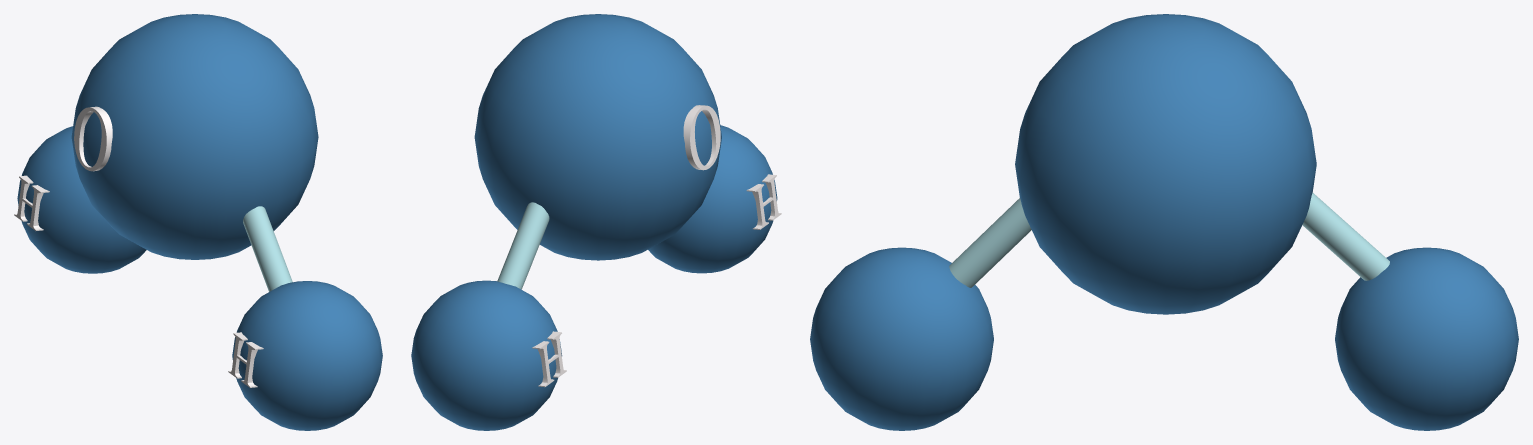
3 views of the same model, side by side, from view 1: azimuth 30°, elevation 25°; view 2: azimuth 150°, elevation 25°; view 3: azimuth 270°, elevation 25° (orthographic). The views are drawn at different scales.
Visible parts, largest first — view 1: Molécula de Agua, H (×2), O#2; view 2: Molécula de Agua, H (×2), O#2; view 3: Molécula de Agua.
Part boxes in pixels (x1=…): Molécula de Agua: x1=17, y1=14, x2=382, y2=430; H (×2): x1=14, y1=175, x2=263, y2=387; O#2: x1=74, y1=106, x2=112, y2=171; Molécula de Agua: x1=411, y1=14, x2=777, y2=430; H (×2): x1=532, y1=174, x2=781, y2=387; O#2: x1=683, y1=105, x2=720, y2=170; Molécula de Agua: x1=810, y1=14, x2=1518, y2=430.
Size of the model in its own units: 0.5909 by 0.8349 by 1.37.
